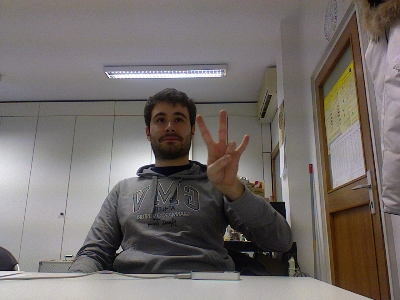观音: (195, 109, 249, 186)
